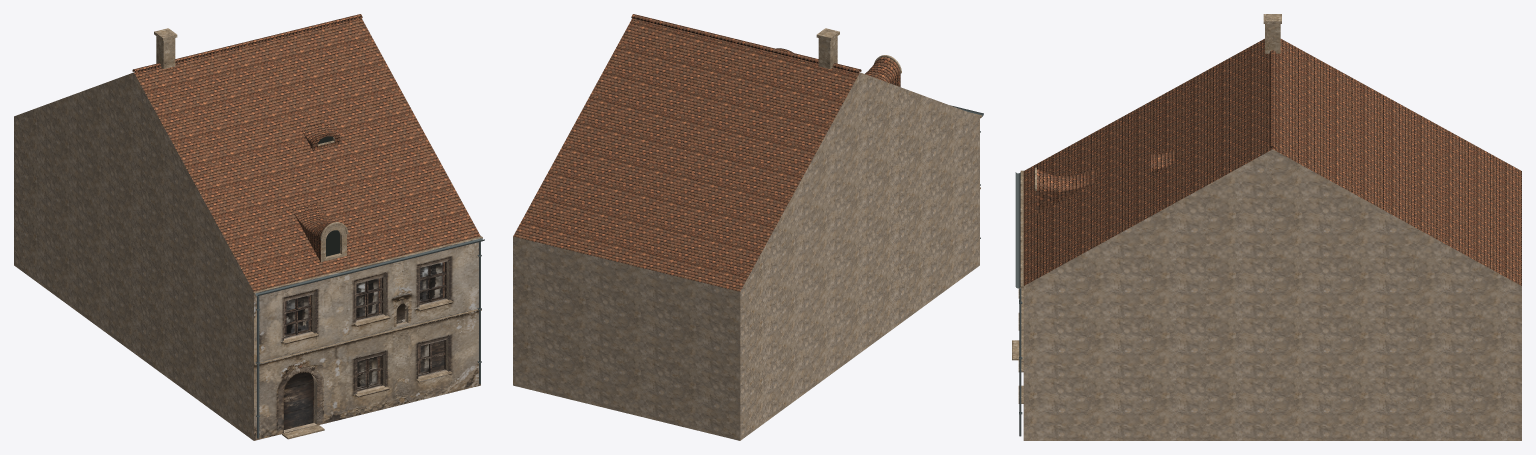
3 renders of one model, left to right at view 1: azimuth 30°, elevation 25°; view 2: azimuth 150°, elevation 25°; view 3: azimuth 270°, elevation 25°, orthographic. The views are drawn at different scales.
Parts seen in each view (by area): view 1: Roof_Closed_Gables, Undocumented_Sides_Rear_Closed_Shell, Masonry_Front_G_Registered_Voids, Photographic_Fills_In_Recesses, Timber_Reveal_Thickness, CP_263_Metal_Gutters_And_Downpipes, DORMER_A_Arched, Cornices_Aligned_To_Photo, Sills_Bevel_C, Chimney_Stacks_Provisional, DORMER_B_Eyebrow; view 2: Roof_Closed_Gables, Undocumented_Sides_Rear_Closed_Shell, Chimney_Stacks_Provisional, DORMER_A_Arched; view 3: Roof_Closed_Gables, Undocumented_Sides_Rear_Closed_Shell, DORMER_A_Arched, CP_263_Metal_Gutters_And_Downpipes, Chimney_Stacks_Provisional, Cornices_Aligned_To_Photo.
Boxes of the visible parts, box(x1,y1,x2,y2) form: Roof_Closed_Gables: box(14, 14, 480, 291); Undocumented_Sides_Rear_Closed_Shell: box(14, 116, 253, 440); Masonry_Front_G_Registered_Voids: box(254, 242, 480, 440); Photographic_Fills_In_Recesses: box(284, 262, 444, 429); Timber_Reveal_Thickness: box(284, 261, 446, 391); CP_263_Metal_Gutters_And_Downpipes: box(255, 238, 484, 438); DORMER_A_Arched: box(293, 204, 346, 262); Cornices_Aligned_To_Photo: box(253, 236, 482, 365); Sills_Bevel_C: box(282, 300, 453, 397); Chimney_Stacks_Provisional: box(154, 28, 177, 68); DORMER_B_Eyebrow: box(302, 123, 340, 149); Roof_Closed_Gables: box(513, 14, 979, 291); Undocumented_Sides_Rear_Closed_Shell: box(513, 116, 979, 440); Chimney_Stacks_Provisional: box(816, 28, 839, 68); DORMER_A_Arched: box(865, 57, 900, 86); Roof_Closed_Gables: box(1023, 38, 1521, 285); Undocumented_Sides_Rear_Closed_Shell: box(1023, 286, 1521, 440); DORMER_A_Arched: box(1036, 169, 1096, 213); CP_263_Metal_Gutters_And_Downpipes: box(1015, 172, 1022, 436); Chimney_Stacks_Provisional: box(1263, 14, 1281, 53); Cornices_Aligned_To_Photo: box(1020, 170, 1023, 362).
Size of the model in its own units: 10.34 by 13.57 by 19.24.
Materials: 7 (5 with a texture image).
